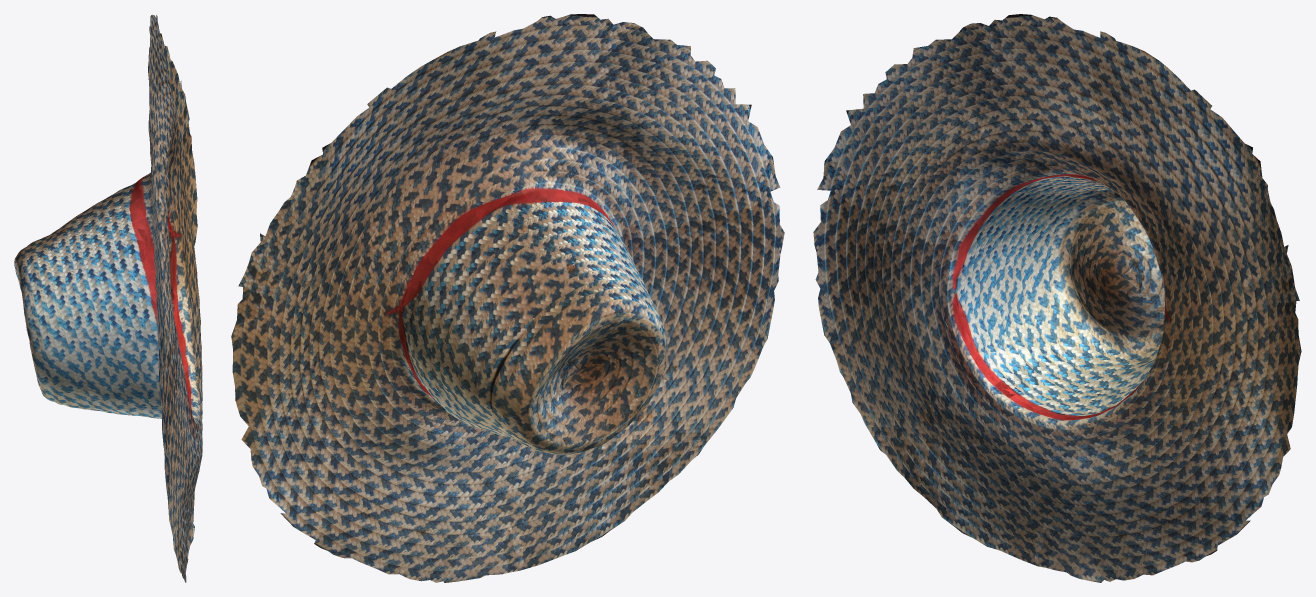
The picture shows the model from 3 angles, left to right: view 1: azimuth 30°, elevation 25°; view 2: azimuth 150°, elevation 25°; view 3: azimuth 270°, elevation 25°; orthographic projection. The views are drawn at different scales.
Visible parts, largest first — view 1: Object_2; view 2: Object_2; view 3: Object_2.
Part boxes in pixels (box(x1,y1,x2,y2)): Object_2: box(14, 14, 202, 582); Object_2: box(231, 14, 784, 582); Object_2: box(813, 14, 1301, 582).
Bounding box in the file's own units: 1.04 × 1.83 × 1.52.
Materials: 1 (1 with a texture image).
